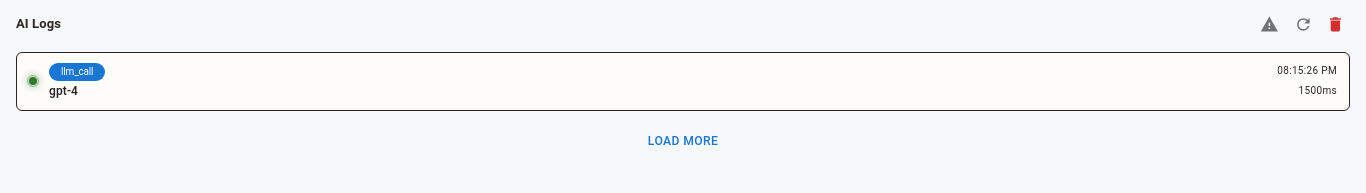
Test: AiLogsView › load more fetches with before cursor
The image size is (1366, 193).
Click the button with test id "ai-logs-load-more". click: [683, 142]
box: [643, 127, 723, 156]
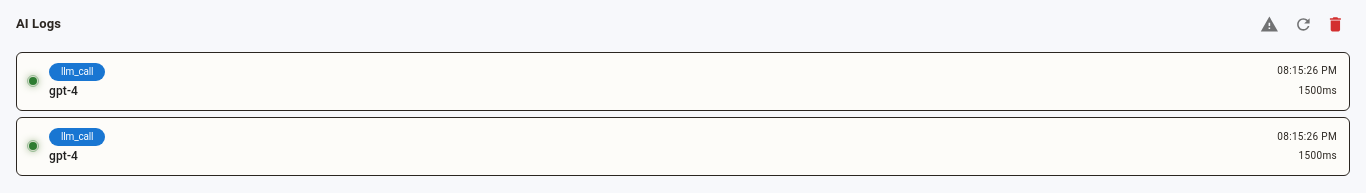
Now the list item with test id "ai-log-row-log-2" is shown, box [16, 117, 1350, 176]
